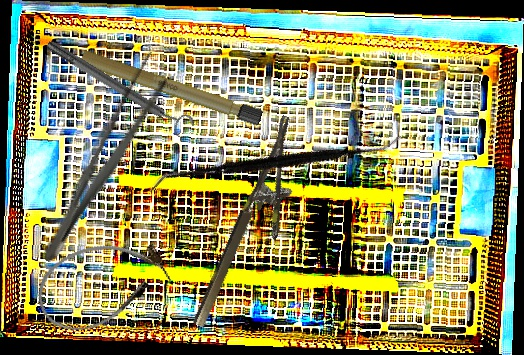Cannula: (26, 224, 178, 343)
Dressing Forceps: (30, 48, 179, 271)
Fixation Ring: (41, 31, 198, 143)
Needle Holder: (190, 114, 324, 341)
Scalpel Handle: (50, 37, 264, 127)
Spatula Surgical: (147, 40, 404, 288)
